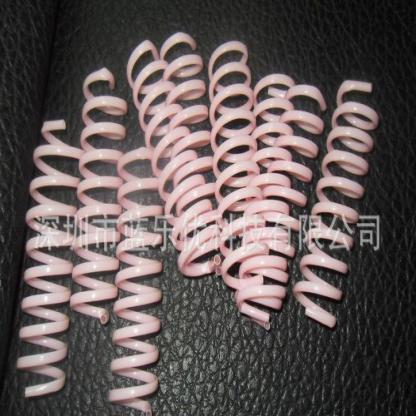FOD: (127, 34, 222, 278), (291, 78, 380, 331), (15, 113, 83, 400), (66, 65, 128, 325), (158, 30, 222, 275), (209, 36, 270, 288), (107, 146, 164, 415)
